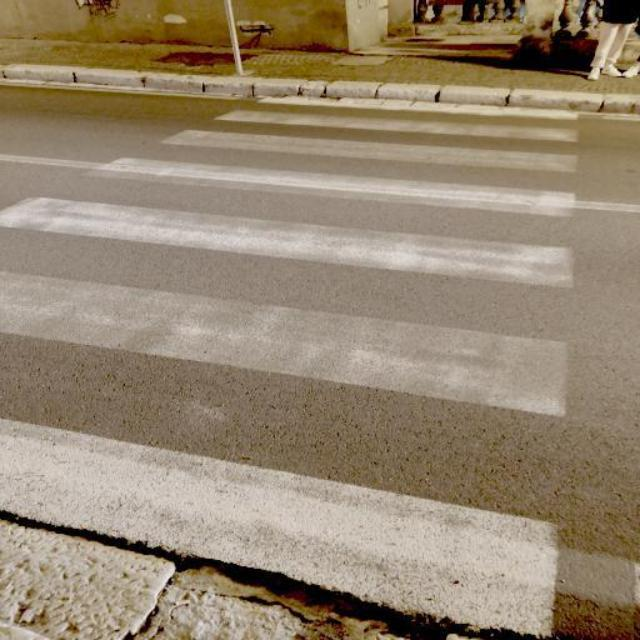sidewalk: (0, 89, 581, 640)
